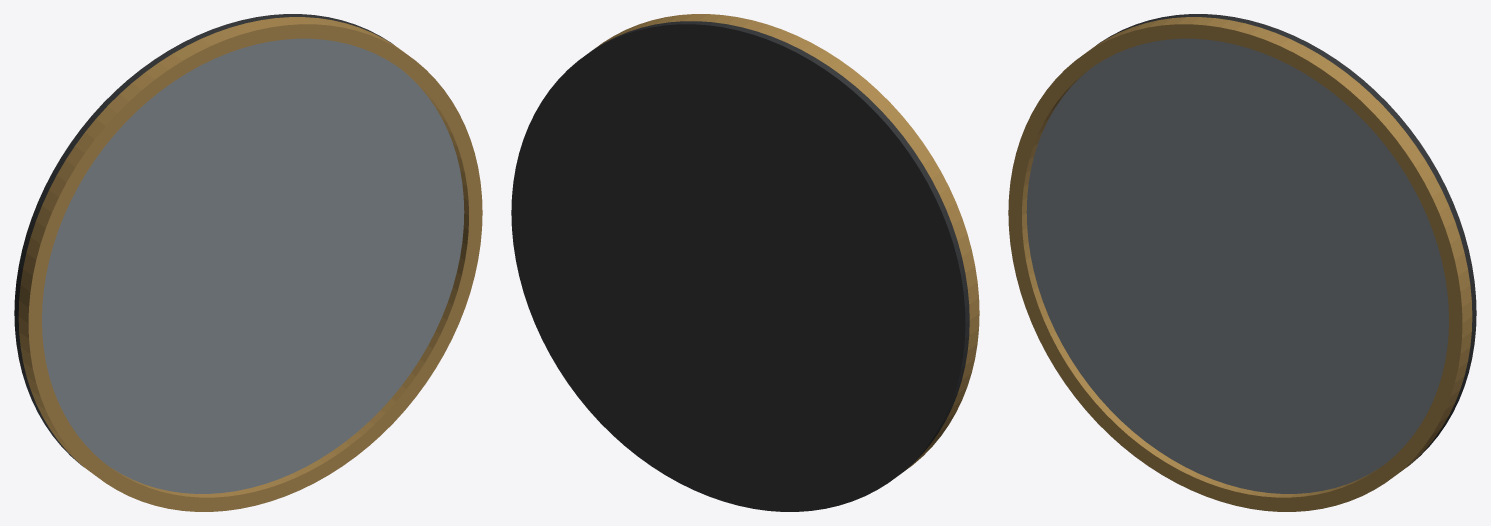
File: attempt-1-round.glb
The picture shows the model from 3 angles, left to right: view 1: azimuth 30°, elevation 25°; view 2: azimuth 150°, elevation 25°; view 3: azimuth 330°, elevation 25°; orthographic projection.
Visible parts, largest first — view 1: mirror-surface, mirror-frame, mirror-back; view 2: mirror-back, mirror-frame; view 3: mirror-surface, mirror-frame, mirror-back.
Part boxes in pixels (box(x1,y1,x2,y2)): mirror-surface: box(42, 38, 464, 493); mirror-frame: box(18, 17, 482, 511); mirror-back: box(14, 14, 393, 466); mirror-back: box(511, 21, 969, 511); mirror-frame: box(595, 14, 979, 471); mirror-surface: box(1026, 38, 1448, 493); mirror-frame: box(1008, 17, 1472, 511); mirror-back: box(1097, 14, 1476, 466).
Bounding box in the file's own units: 0.744 × 0.744 × 0.04.
